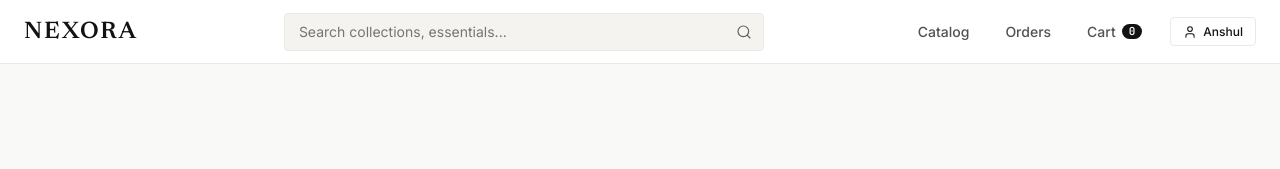
Test: Header component › renders user dropdown when user is authenticated
Expected: the text "Anshul" is shown, [1203,24,1243,39]
What coordinates should you click on to do the following:
click the button "Anshul"
I would click on:
 (1213, 32)
Its box is [1170,17,1256,46].
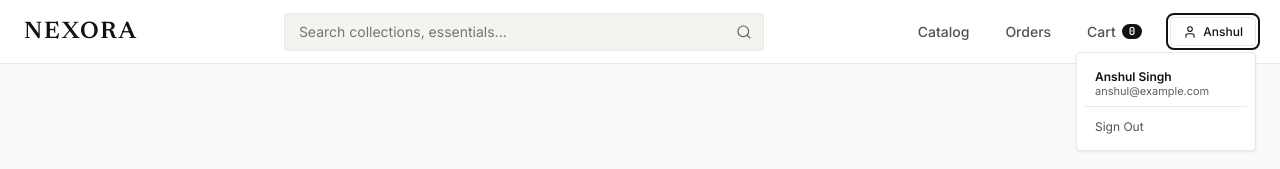
Expected: the text "anshul@example.com" is shown, [1095,84,1209,98]
Expected: the menu item "Sign Out" is shown, [1085,111,1247,142]
